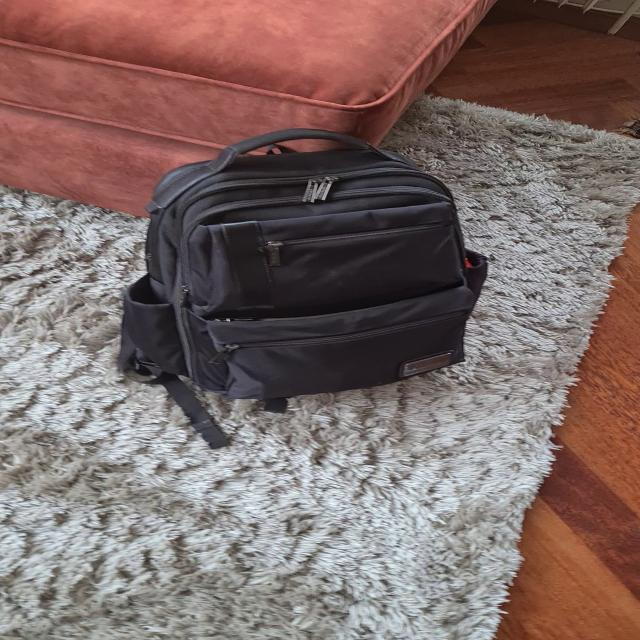backpack: (109, 122, 498, 415)
